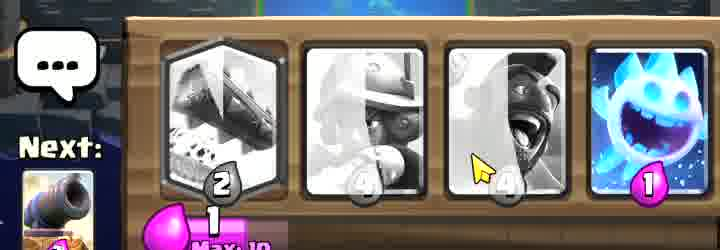cannon: (162, 52, 241, 182), (22, 171, 95, 250)
ice-spirit: (595, 46, 710, 200)
